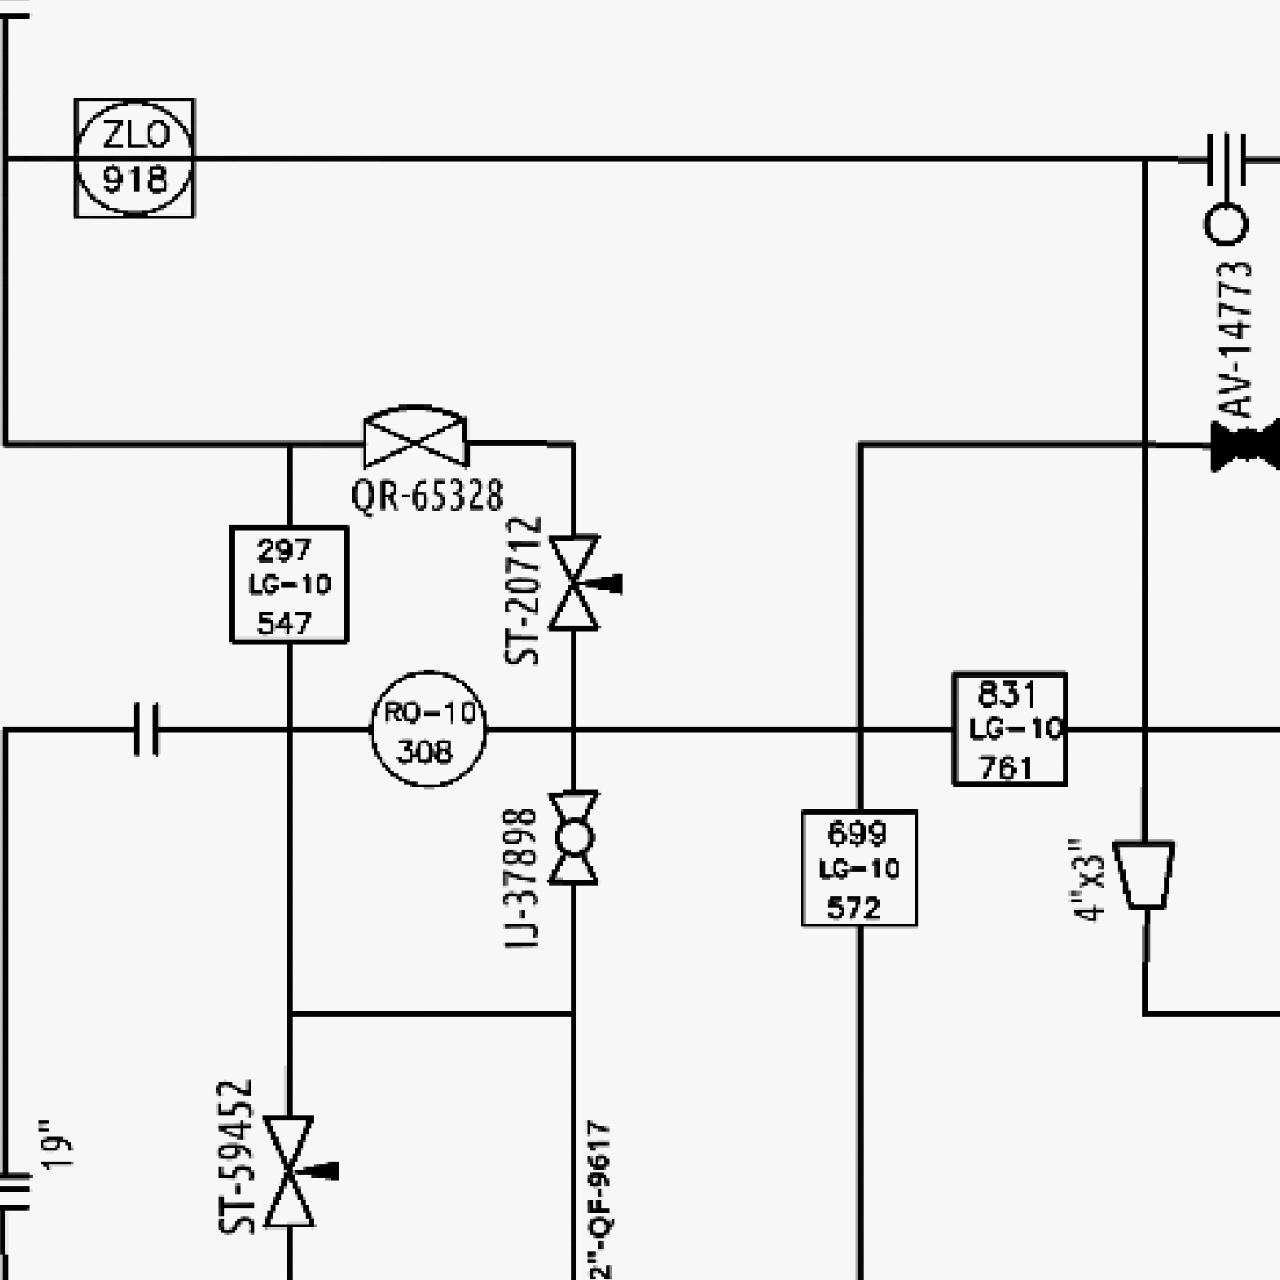Control-Panel: (365, 663, 491, 791)
